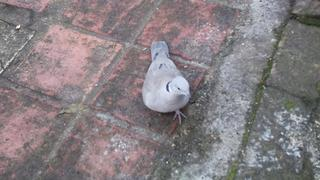collared dove: (141, 41, 192, 126)
